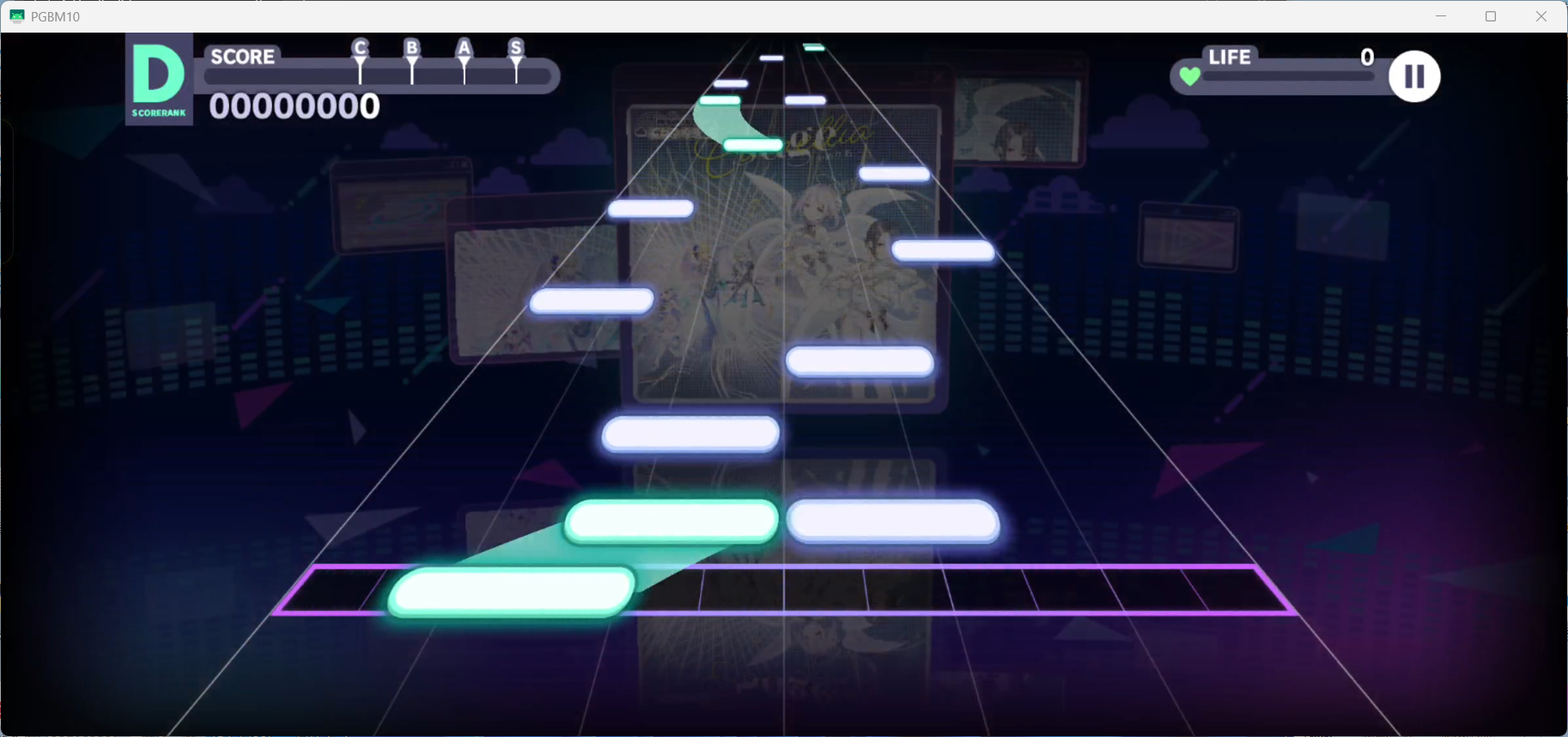hold: (449, 544, 729, 565), (693, 106, 768, 138)
tap: (388, 566, 636, 620), (786, 500, 1000, 545), (565, 499, 778, 544), (600, 415, 778, 451), (787, 346, 936, 378), (529, 287, 654, 314), (891, 238, 995, 262), (608, 197, 694, 219), (858, 166, 930, 182), (724, 138, 782, 152), (784, 96, 826, 105), (699, 96, 740, 105), (713, 80, 747, 88), (758, 55, 783, 61), (805, 46, 824, 51)
